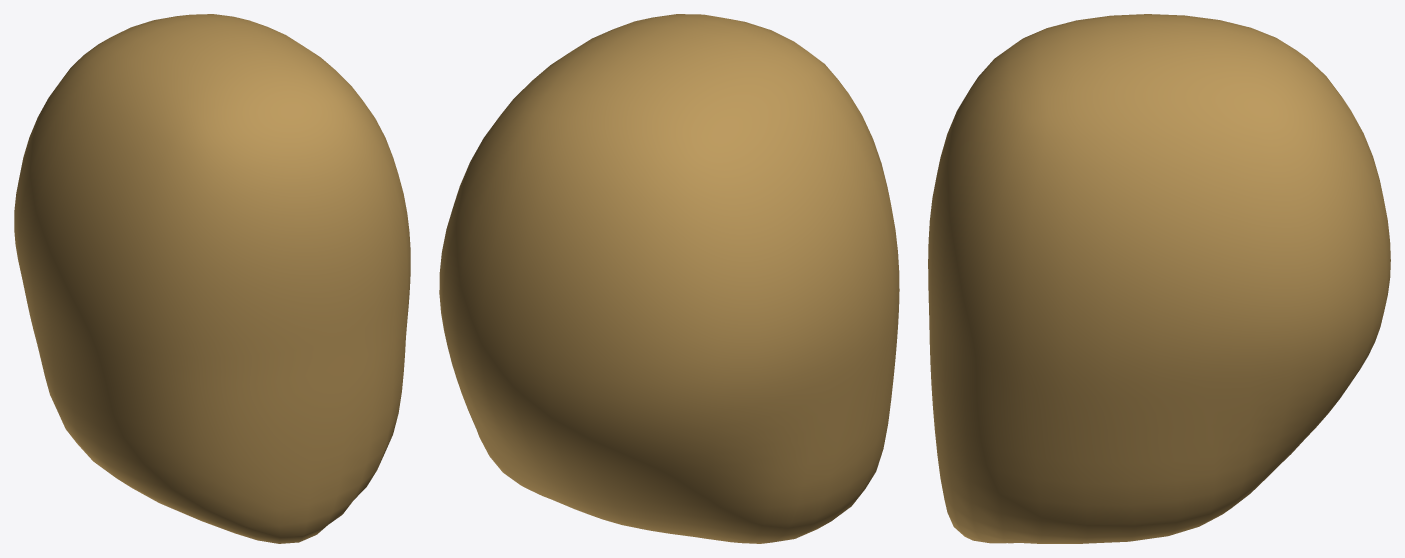
The model's file is head_head_007.gltf.
The picture shows the model from 3 angles, left to right: view 1: azimuth 30°, elevation 25°; view 2: azimuth 150°, elevation 25°; view 3: azimuth 270°, elevation 25°; orthographic projection. The views are drawn at different scales.
Visible parts, largest first — view 1: head.007; view 2: head.007; view 3: head.007.
Part boxes in pixels (x1,y1,x2,y2): head.007: (14, 14, 410, 543); head.007: (439, 14, 899, 543); head.007: (928, 14, 1390, 543).
Size of the model in its own units: 0.1447 by 0.1906 by 0.1593.
